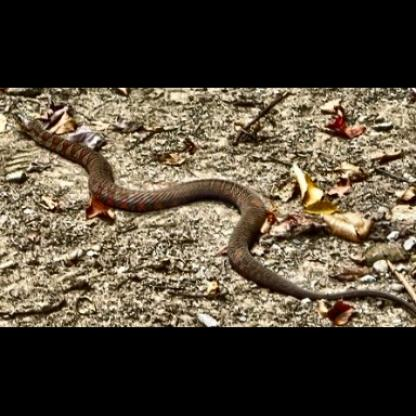Snake: (3, 108, 413, 312)
